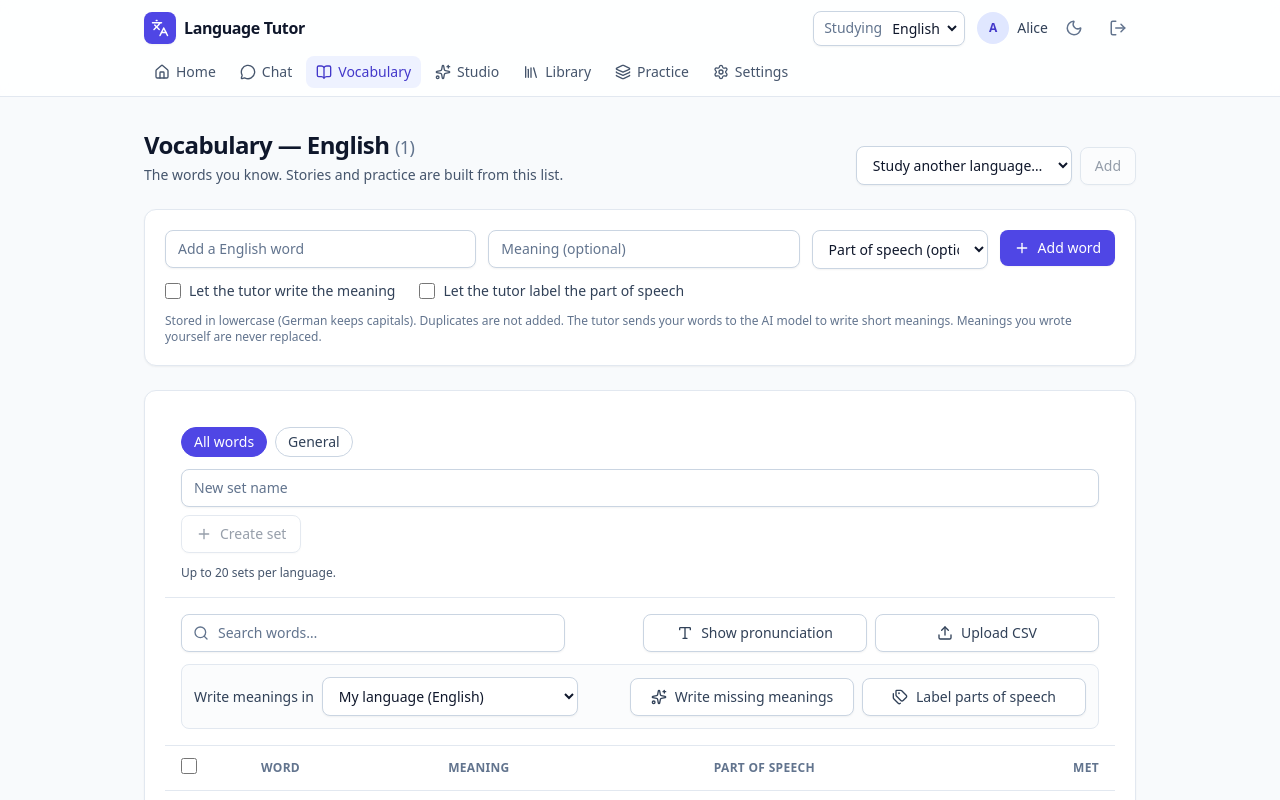
Test: part of speech on the vocabulary page › the Label button asks the tutor until nothing is left, and says how many
The width and height of the screenshot is (1280, 800).
Click the button "Label parts of speech" at point(974, 696), box top-left (862, 678), bottom-right (1086, 716)
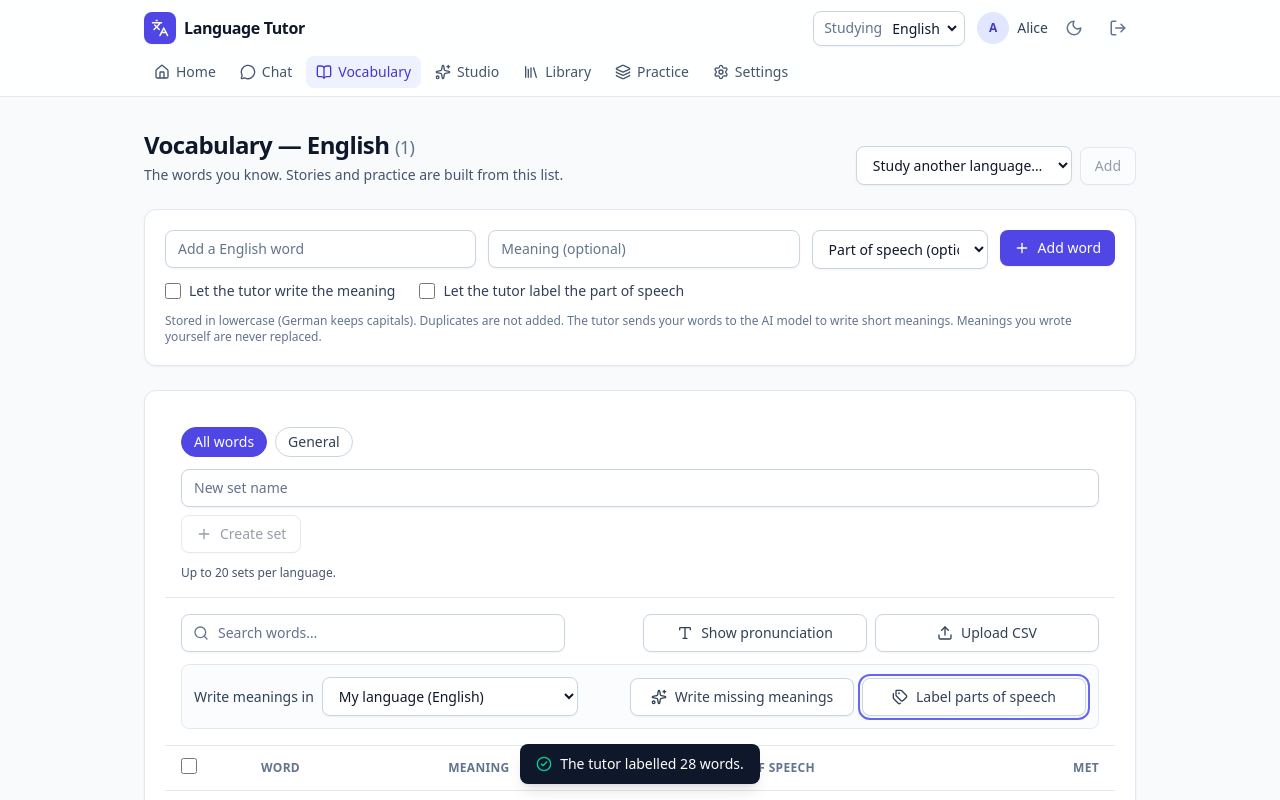
Check: the text "The tutor labelled 28 words." is shown, box top-left (520, 744), bottom-right (760, 784)
